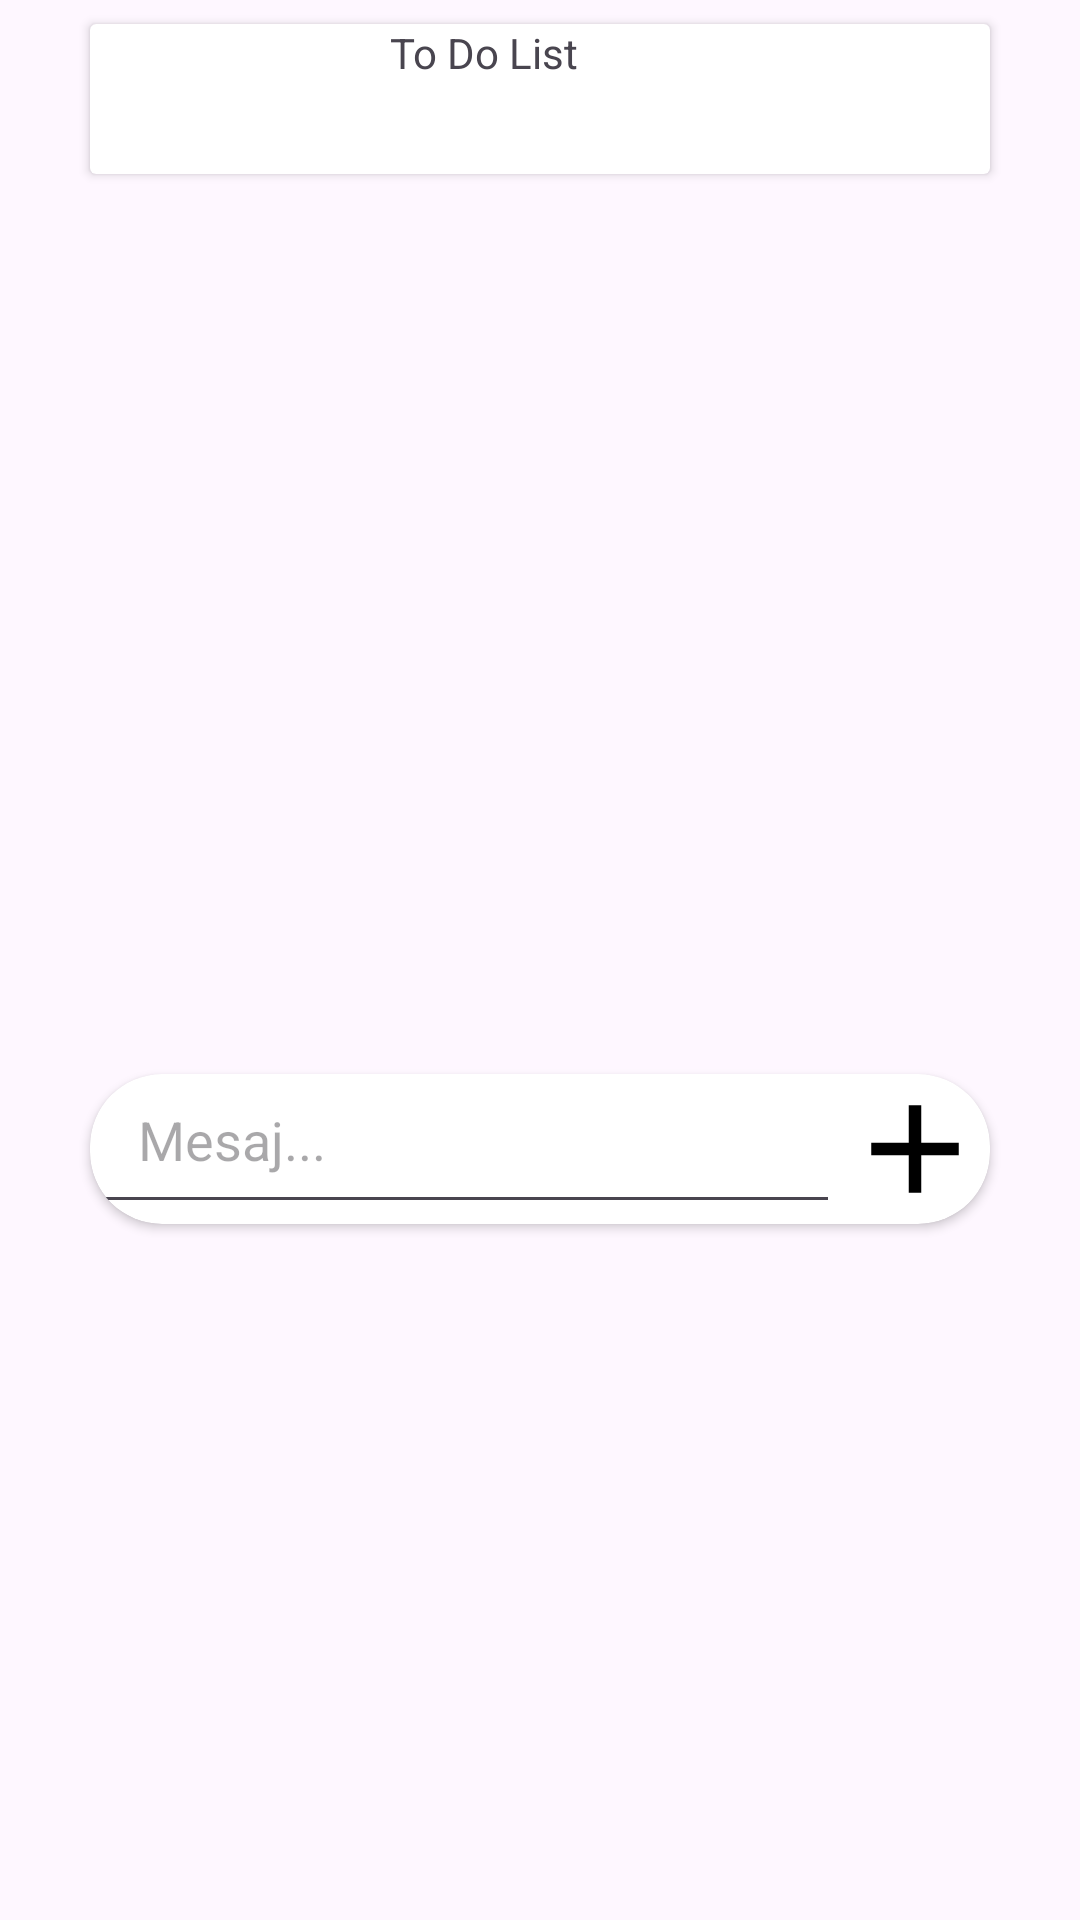

Where icons sit on this 1080px x 1920px app screen, as (x1, y1, x2, y2):
add: (871, 1105, 985, 1193)
